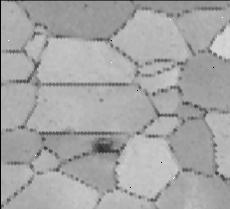good_void: (91, 135, 115, 155), (81, 1, 88, 12), (96, 96, 104, 103)
